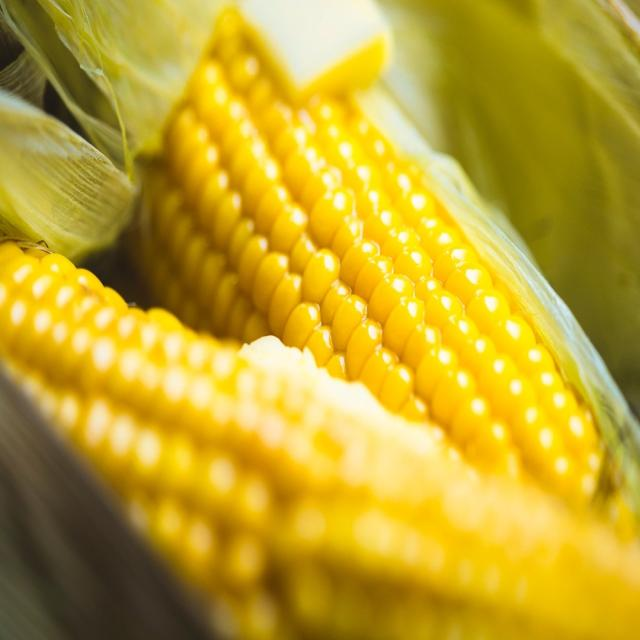corn: (129, 0, 638, 555), (0, 222, 640, 630)
